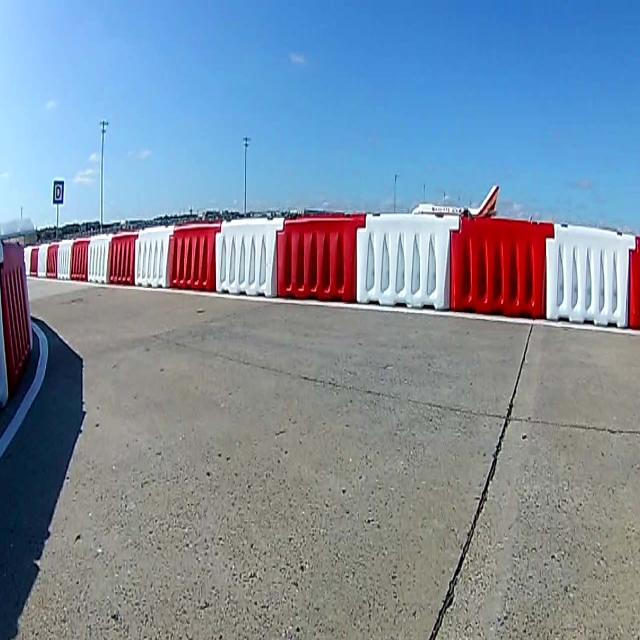durak: (52, 180, 64, 204)
